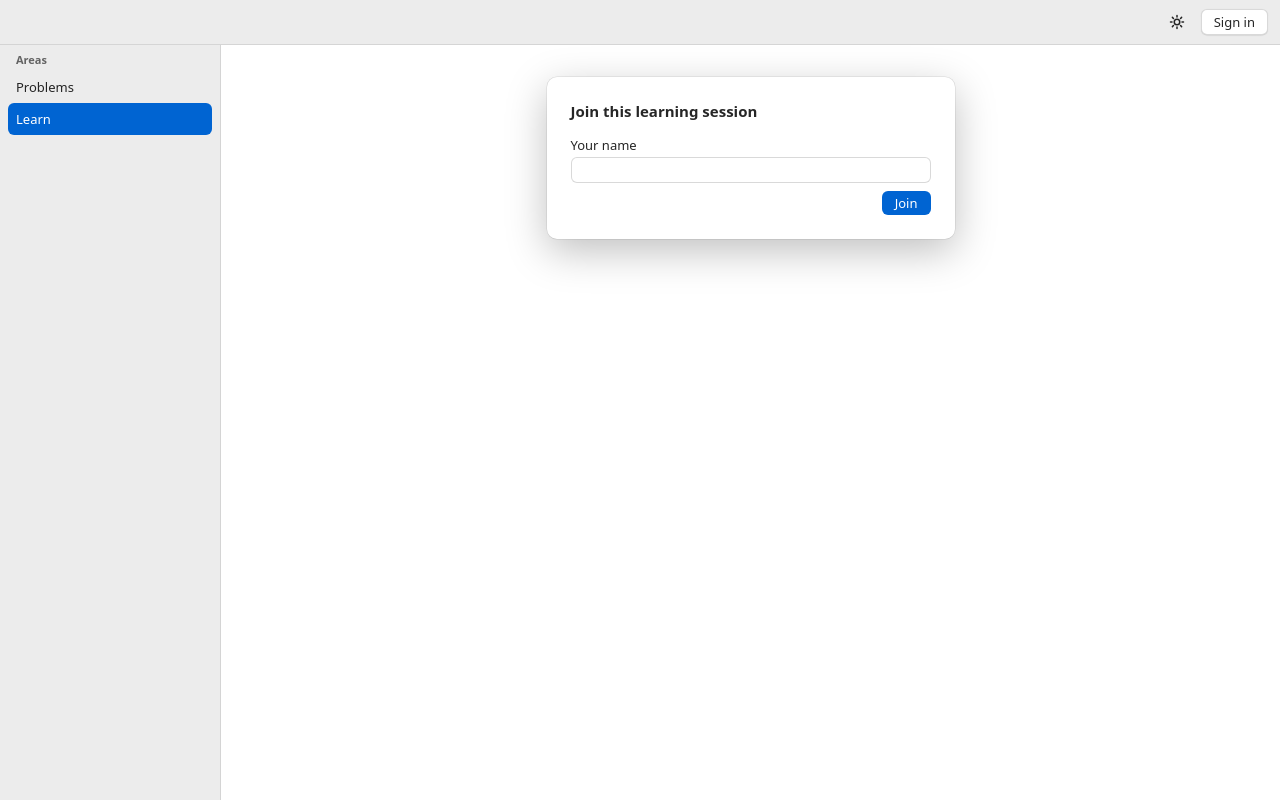
Scenario: LearningSessionWindow: joining (FR-7, FR-8) › a 4404 close says the session was not found
In the field labelled "Your name": (750, 170) [570,157,930,183], type "Ada"
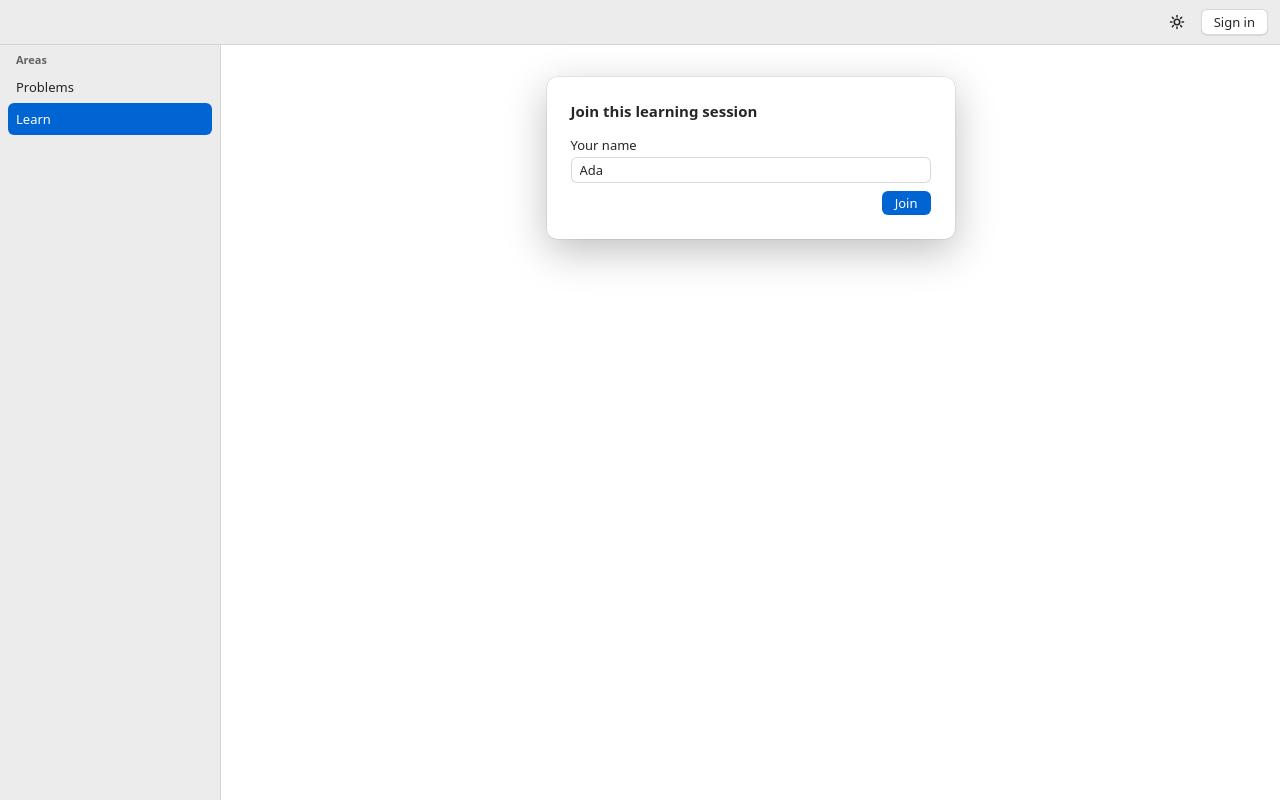
Click the button "Join": (906, 203) [882,191,930,215]
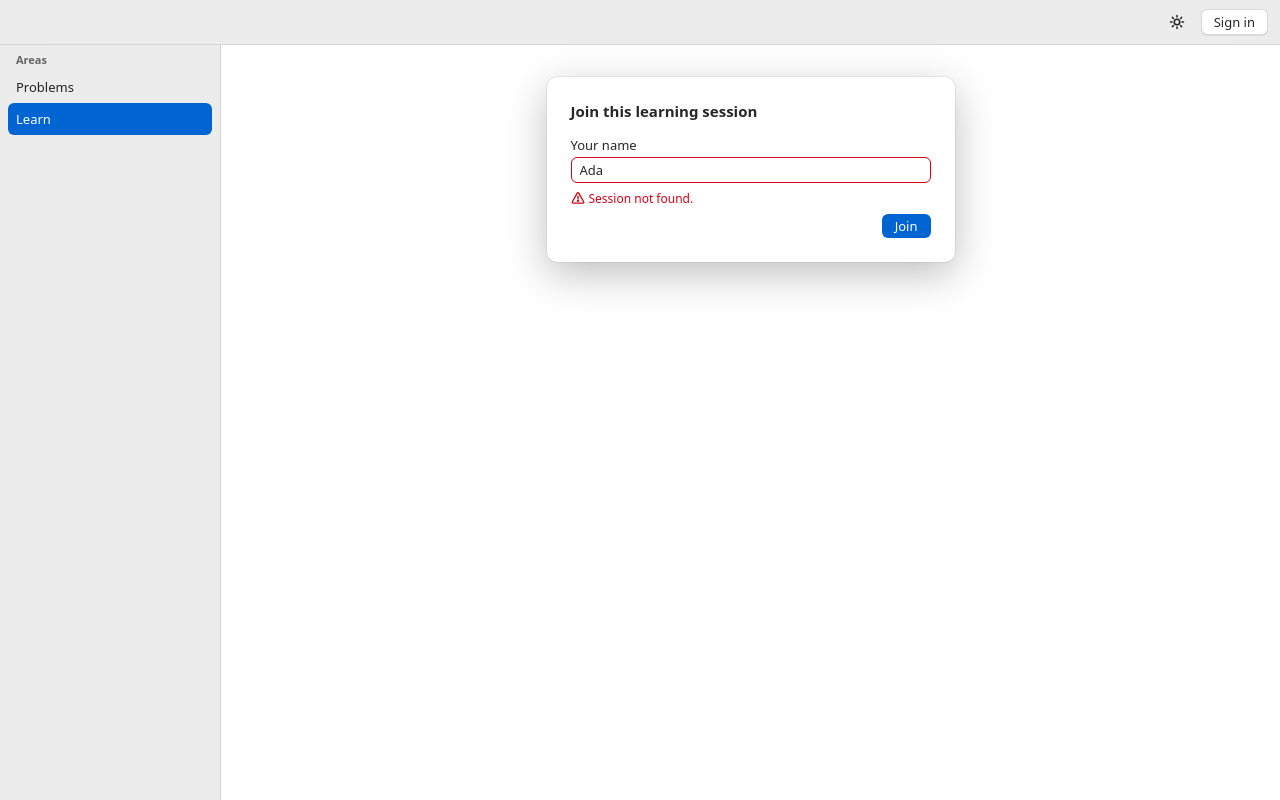
Expected: the text "Session not found." is shown, [588,191,693,206]
